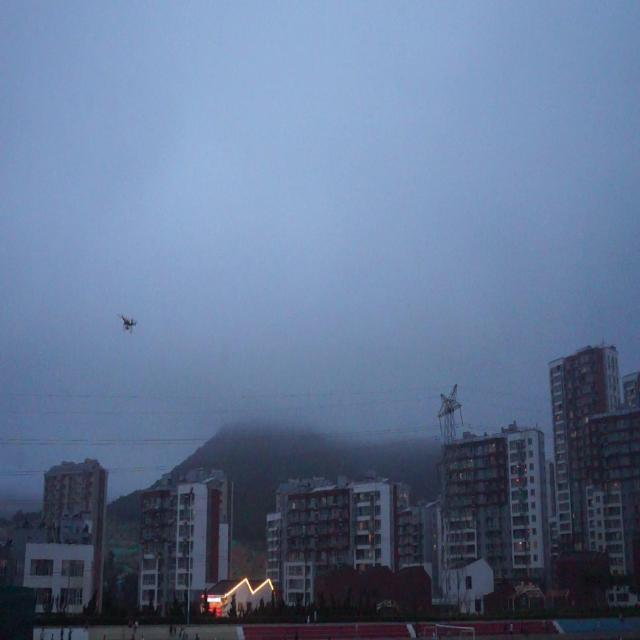drone: (119, 308, 139, 337)
